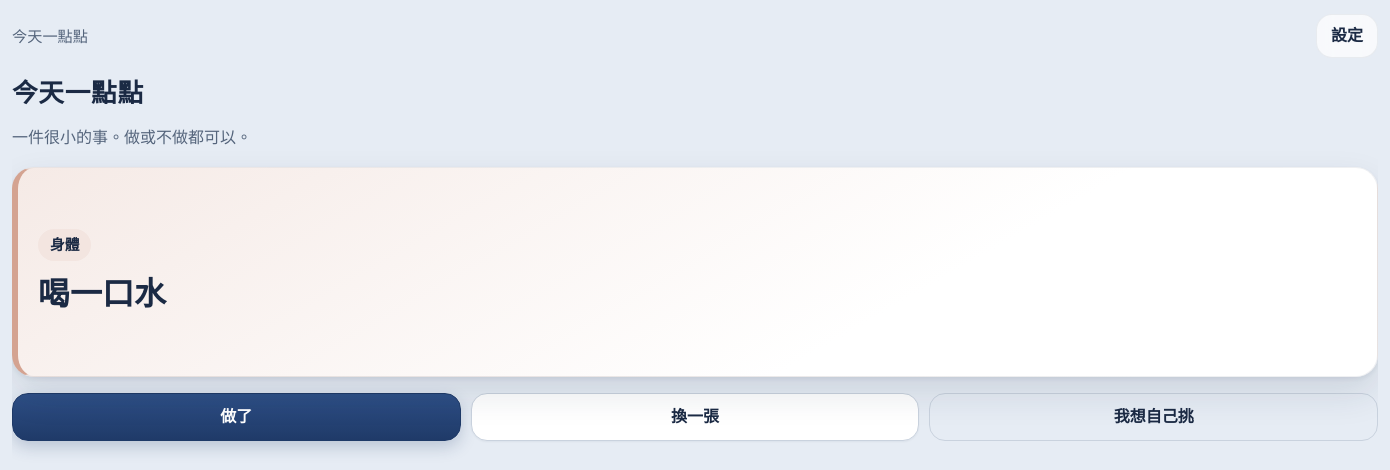
Test: 今天一點點 › 換一張不重複剛出現的；可跳過不需理由
Step 1. Click the button "換一張" → coordinates (695, 417), box 471,393 -> 919,441
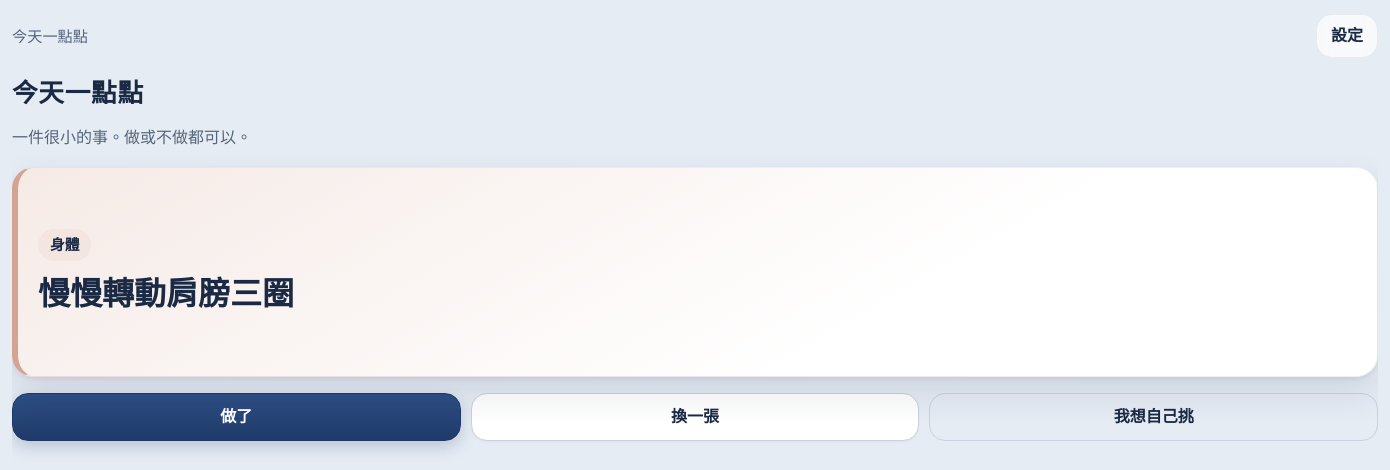
Expected: the text "喝一口水" is gone
Expected: the text "慢慢轉動肩膀三圈" is shown, 38,271 -> 294,314
